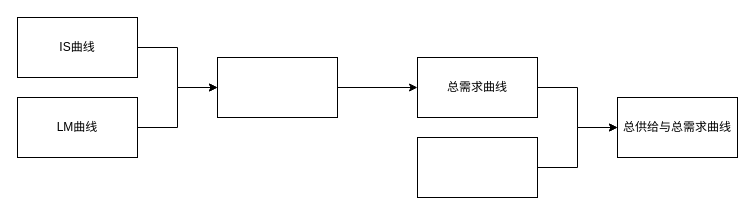
The diagram is 755 pixels wide and 215 high, and some of its shapes have lost their labels. Each missing label, with the box of its shape:
IS-IM模型: (216, 56, 338, 118)
总供给曲线: (416, 136, 538, 198)
